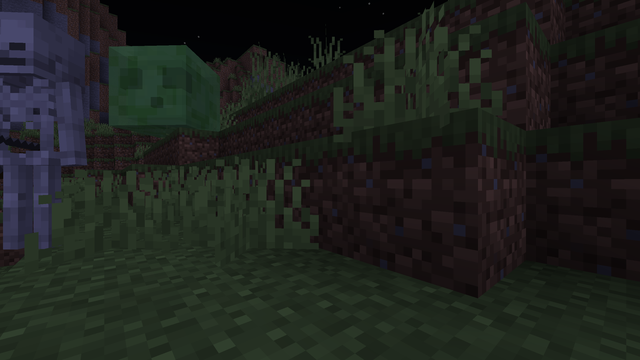slimes: (124, 32, 219, 137)
squelettes: (2, 14, 79, 254)
